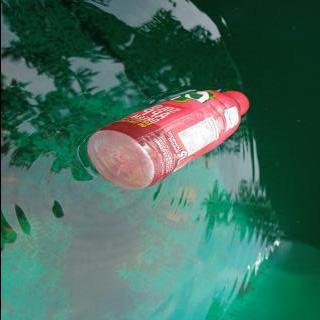bottle: (84, 88, 250, 192)
